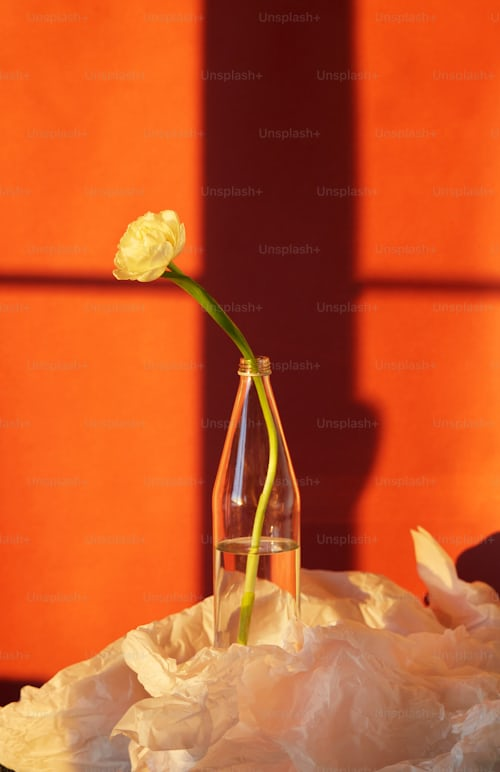Bottle: (196, 350, 311, 667)
